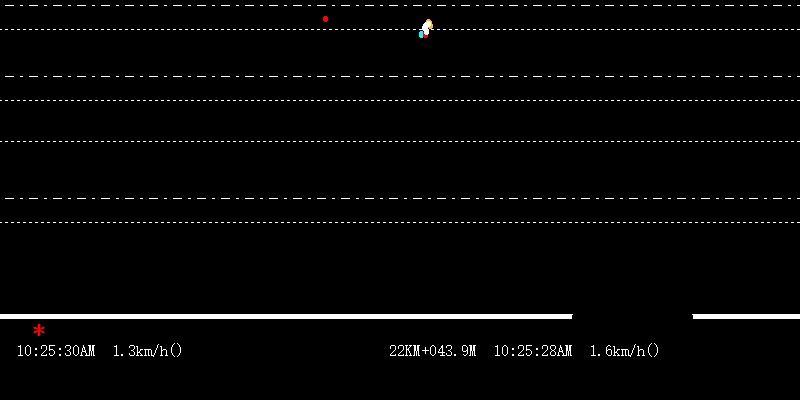face_s: (419, 17, 433, 39)
face_up: (319, 13, 332, 34)
star: (30, 321, 46, 337)
